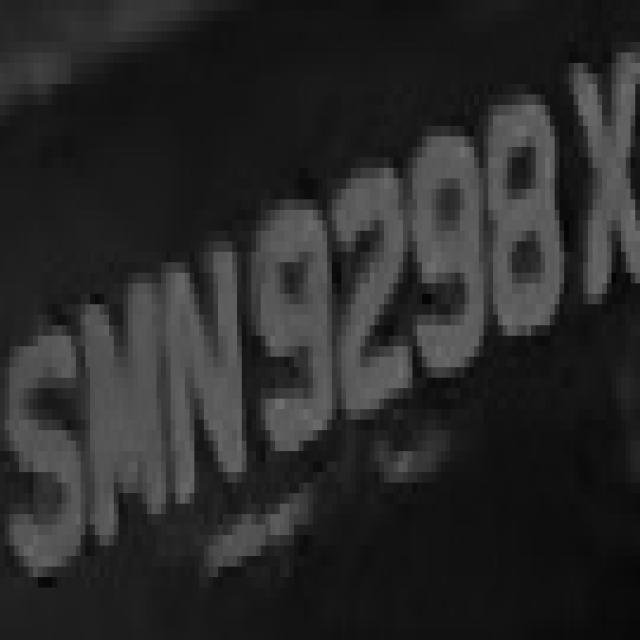2: (313, 178, 417, 430)
8: (460, 63, 474, 73)
9: (237, 158, 337, 482), (398, 126, 493, 430)
M: (90, 220, 166, 514)
N: (166, 199, 251, 514)
S: (9, 284, 95, 608)
X: (4, 1, 5, 5)
